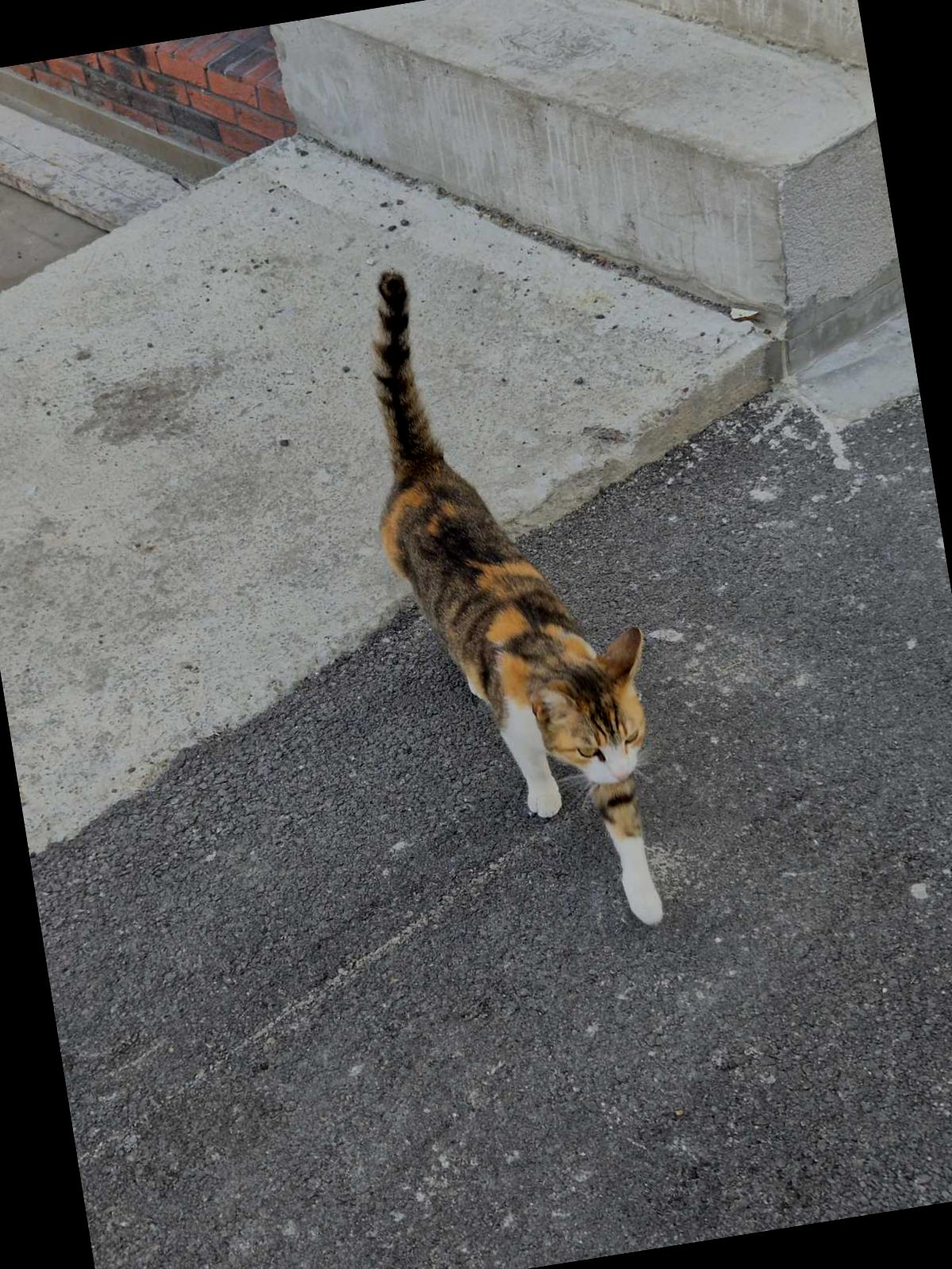macka: (338, 242, 689, 968)
